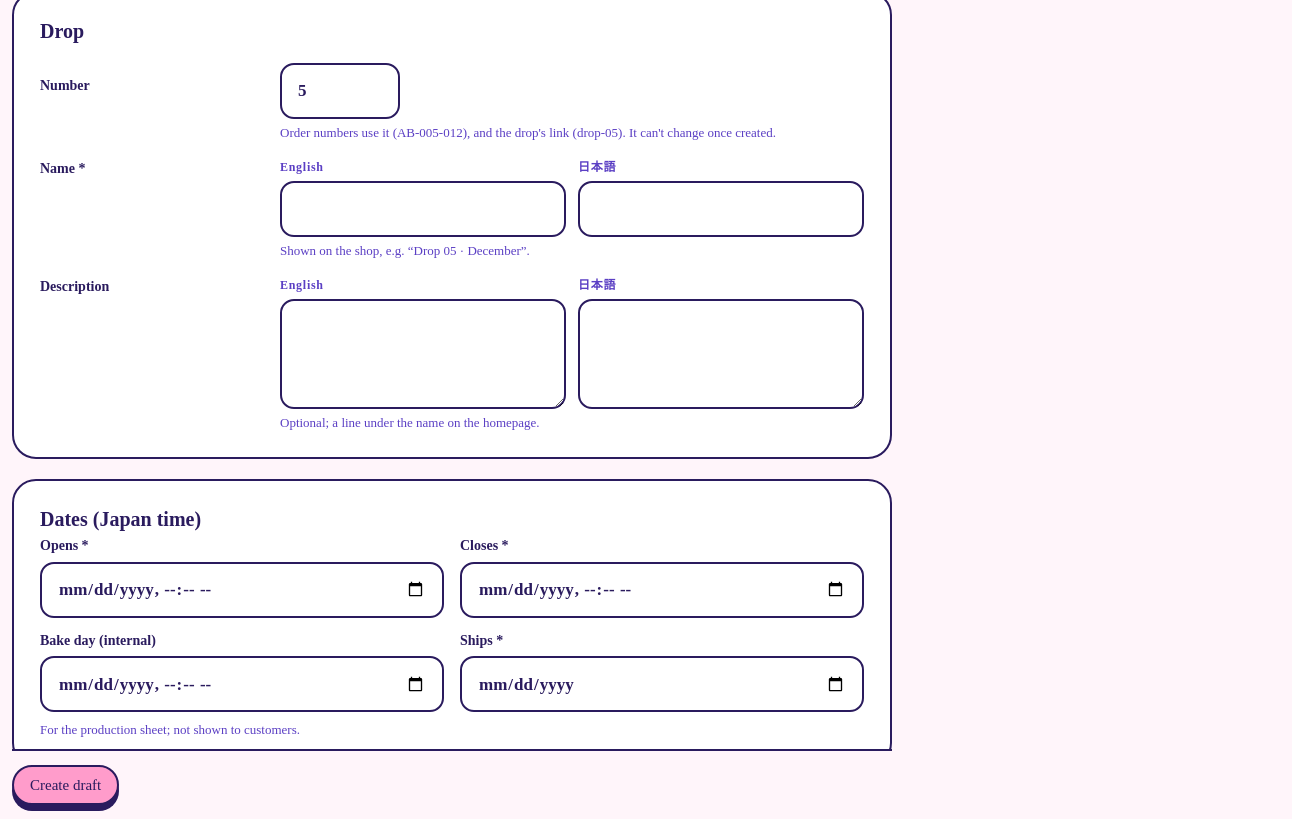
Scenario: DropForm and the state it was drawn for › links the box picker to its error, like the numeric fields
Click the button "Create draft": (66, 785) [12,765,119,805]
(page scrolled)
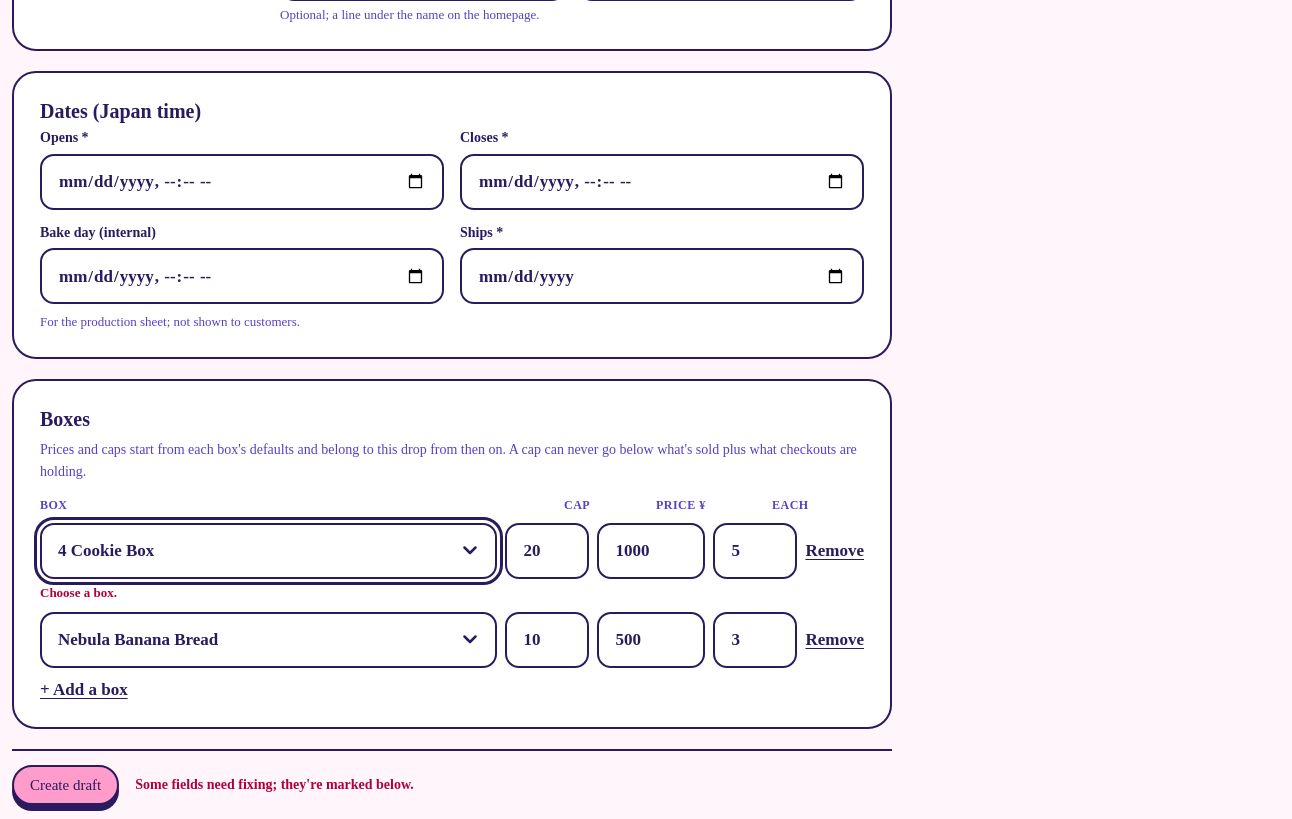
expect the text "Choose a box." is shown: met, box [40,585,117,600]
